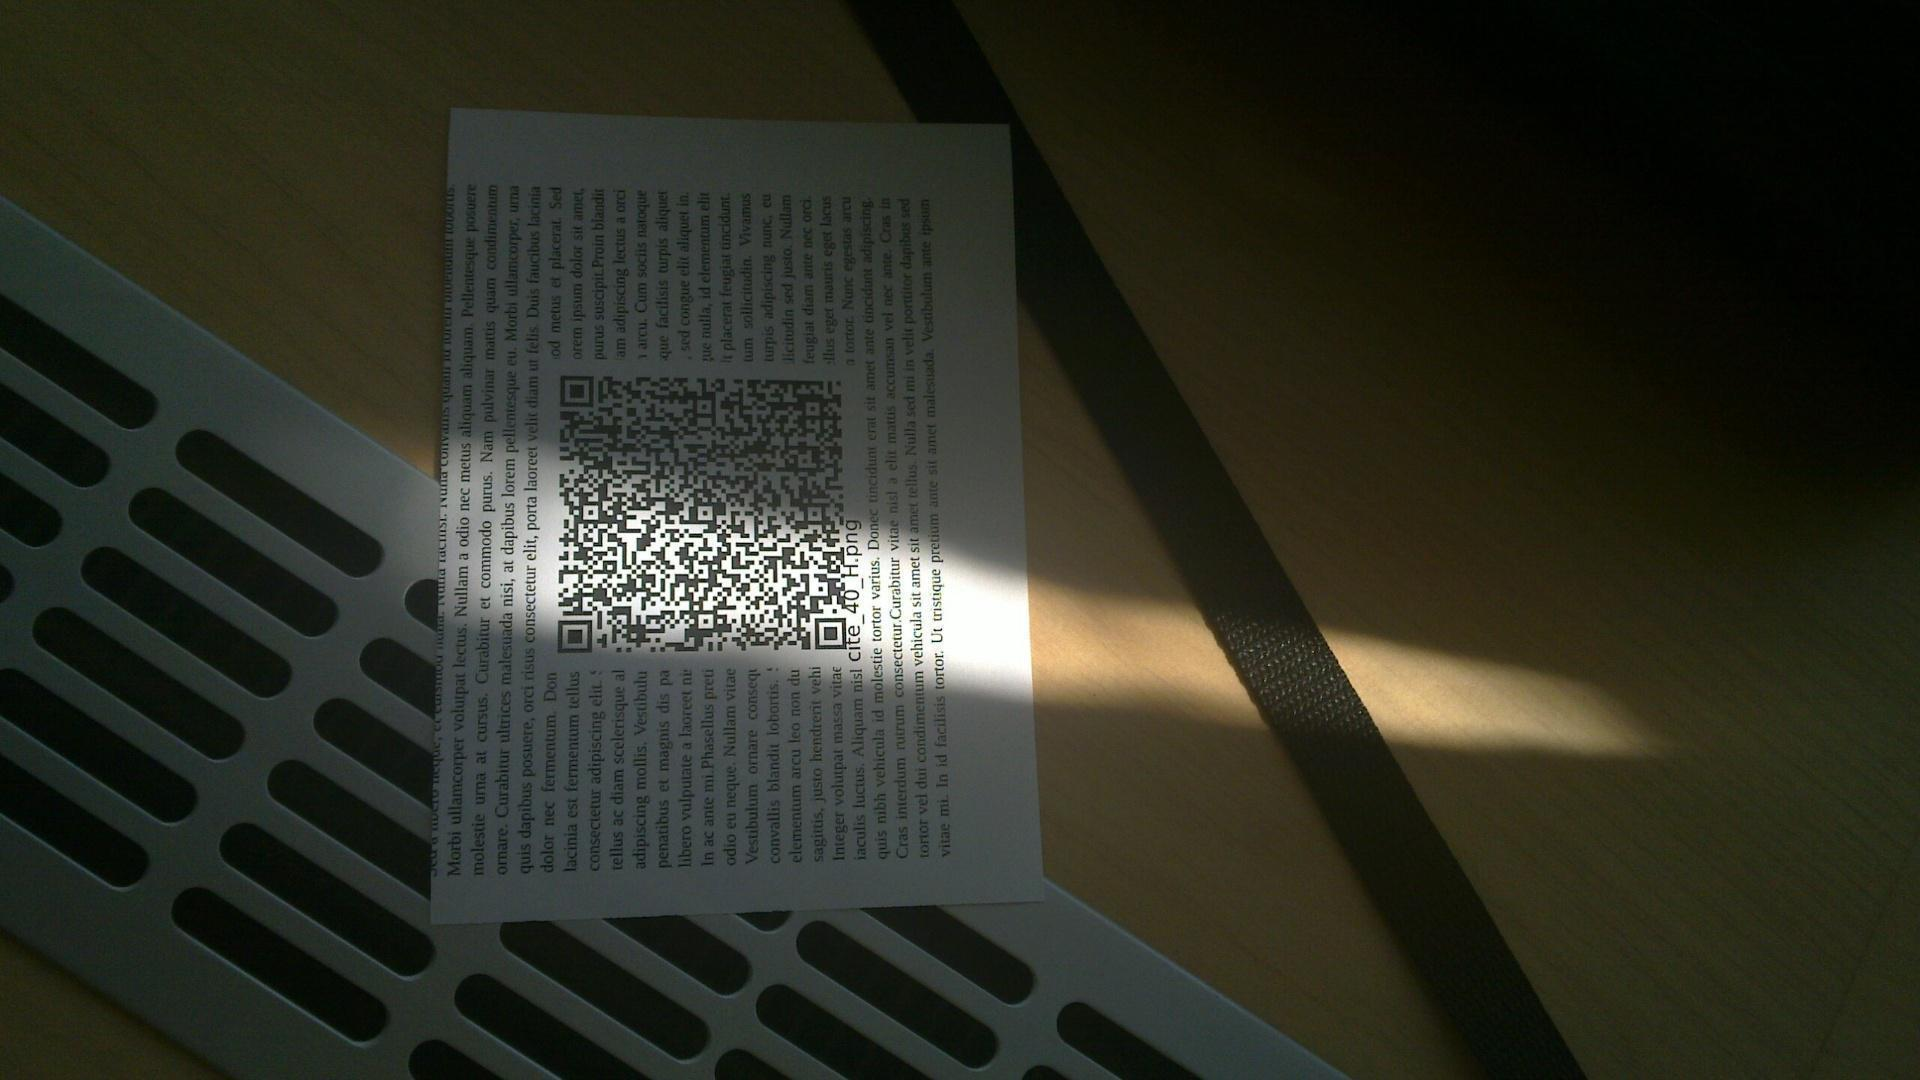qr_code: (556, 375, 847, 653)
